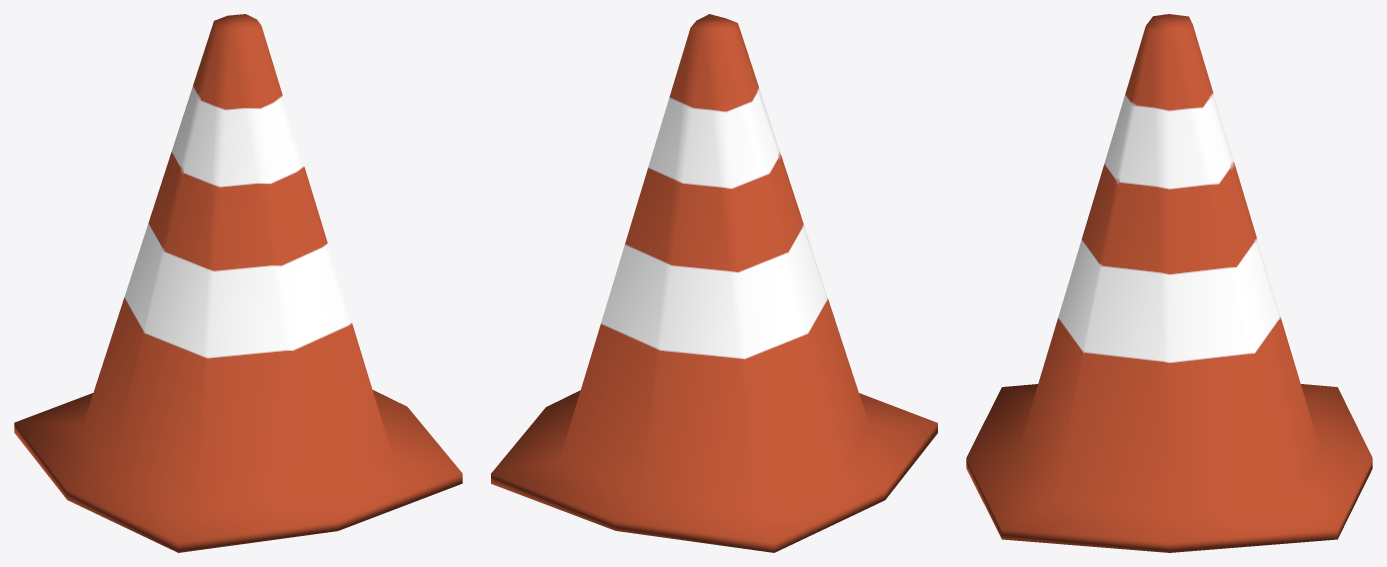
Rendered from CityKit2.fbx_TrafficCone.fbx.
The picture shows the model from 3 angles, left to right: view 1: azimuth 30°, elevation 25°; view 2: azimuth 150°, elevation 25°; view 3: azimuth 270°, elevation 25°; orthographic projection. The views are drawn at different scales.
Parts seen in each view (by area): view 1: TrafficCone; view 2: TrafficCone; view 3: TrafficCone.
Part boxes in pixels (x1=…): TrafficCone: x1=14, y1=14, x2=462, y2=552; TrafficCone: x1=491, y1=14, x2=937, y2=552; TrafficCone: x1=966, y1=14, x2=1372, y2=552.
Size of the model in its own units: 139 by 170 by 140.
Materials: 1 (1 with a texture image).
